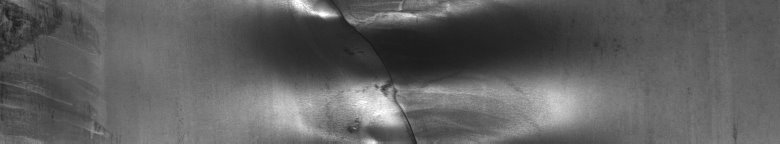ke: (281, 4, 462, 136)
